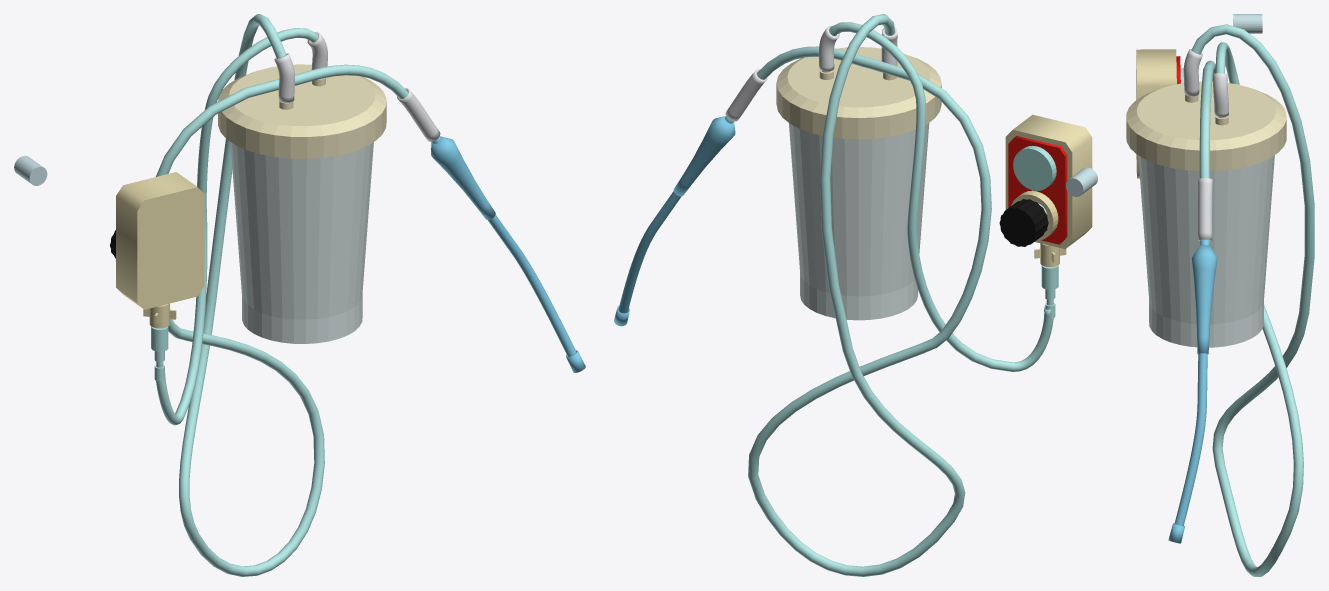
The model's file is suction.glb.
3 renders of one model, left to right at view 1: azimuth 30°, elevation 25°; view 2: azimuth 150°, elevation 25°; view 3: azimuth 270°, elevation 25°, orthographic. The views are drawn at different scales.
Parts seen in each view (by area): view 1: Container, SuctionTube, Lid, outletBack, BezierCurve, yankauerHandle, yankauer, BezierCurve.001, TopRubberConnector; view 2: Container, SuctionTube, Lid, BezierCurve, outletBack, outletfront, nob, yankauerHandle, Cylinder.001, yankauer, BezierCurve.001, Cylinder (+2 smaller); view 3: Container, SuctionTube, Lid, yankauerHandle, yankauer, outletBack, BezierCurve.001, TopRubberConnector, BezierCurve.002, BezierCurve, valve01.
Part boxes in pixels (bbox=[...]): Container: bbox=[230, 142, 373, 343]; SuctionTube: bbox=[156, 14, 407, 576]; Lid: bbox=[218, 64, 386, 158]; outletBack: bbox=[116, 172, 204, 309]; BezierCurve: bbox=[156, 28, 318, 425]; yankauerHandle: bbox=[431, 136, 495, 219]; yankauer: bbox=[432, 136, 576, 356]; BezierCurve.001: bbox=[397, 88, 440, 141]; TopRubberConnector: bbox=[274, 53, 294, 102]; Container: bbox=[789, 123, 929, 320]; SuctionTube: bbox=[748, 14, 991, 576]; Lid: bbox=[776, 47, 941, 139]; BezierCurve: bbox=[829, 22, 1053, 371]; outletBack: bbox=[1005, 114, 1092, 249]; outletfront: bbox=[1008, 136, 1067, 244]; nob: bbox=[999, 199, 1048, 246]; yankauerHandle: bbox=[673, 116, 735, 196]; Cylinder.001: bbox=[1013, 146, 1056, 190]; yankauer: bbox=[618, 116, 733, 313]; BezierCurve.001: bbox=[725, 69, 767, 121]; Cylinder: bbox=[1011, 190, 1058, 240]; Container: bbox=[1138, 155, 1274, 347]; SuctionTube: bbox=[1191, 24, 1314, 576]; Lid: bbox=[1126, 81, 1286, 171]; yankauerHandle: bbox=[1191, 245, 1217, 354]; yankauer: bbox=[1174, 239, 1209, 526]; outletBack: bbox=[1136, 49, 1176, 178]; BezierCurve.001: bbox=[1197, 178, 1212, 240]; TopRubberConnector: bbox=[1183, 49, 1202, 96]; BezierCurve.002: bbox=[1213, 73, 1228, 117]; BezierCurve: bbox=[1215, 42, 1239, 84]; valve01: bbox=[1233, 14, 1262, 33].
Bounding box in the file's own units: 0.6431 × 0.6634 × 0.21.
